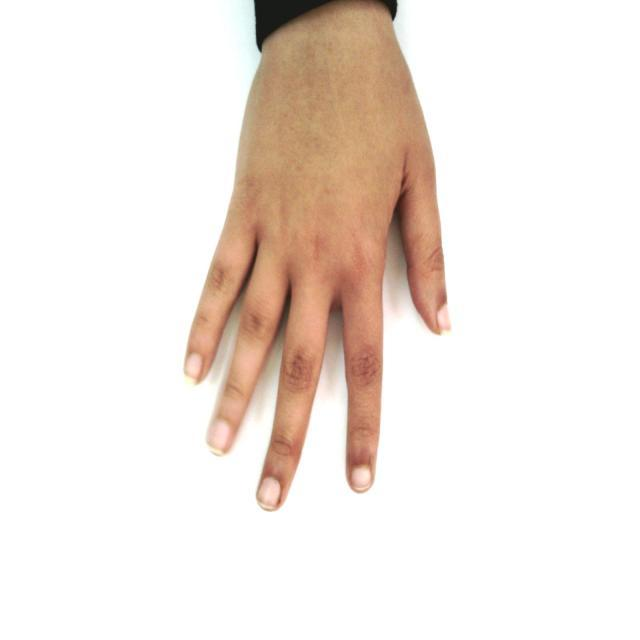Fingernail: (209, 420, 231, 452), (259, 477, 280, 509), (352, 466, 371, 490), (186, 354, 202, 381), (437, 305, 451, 333)
